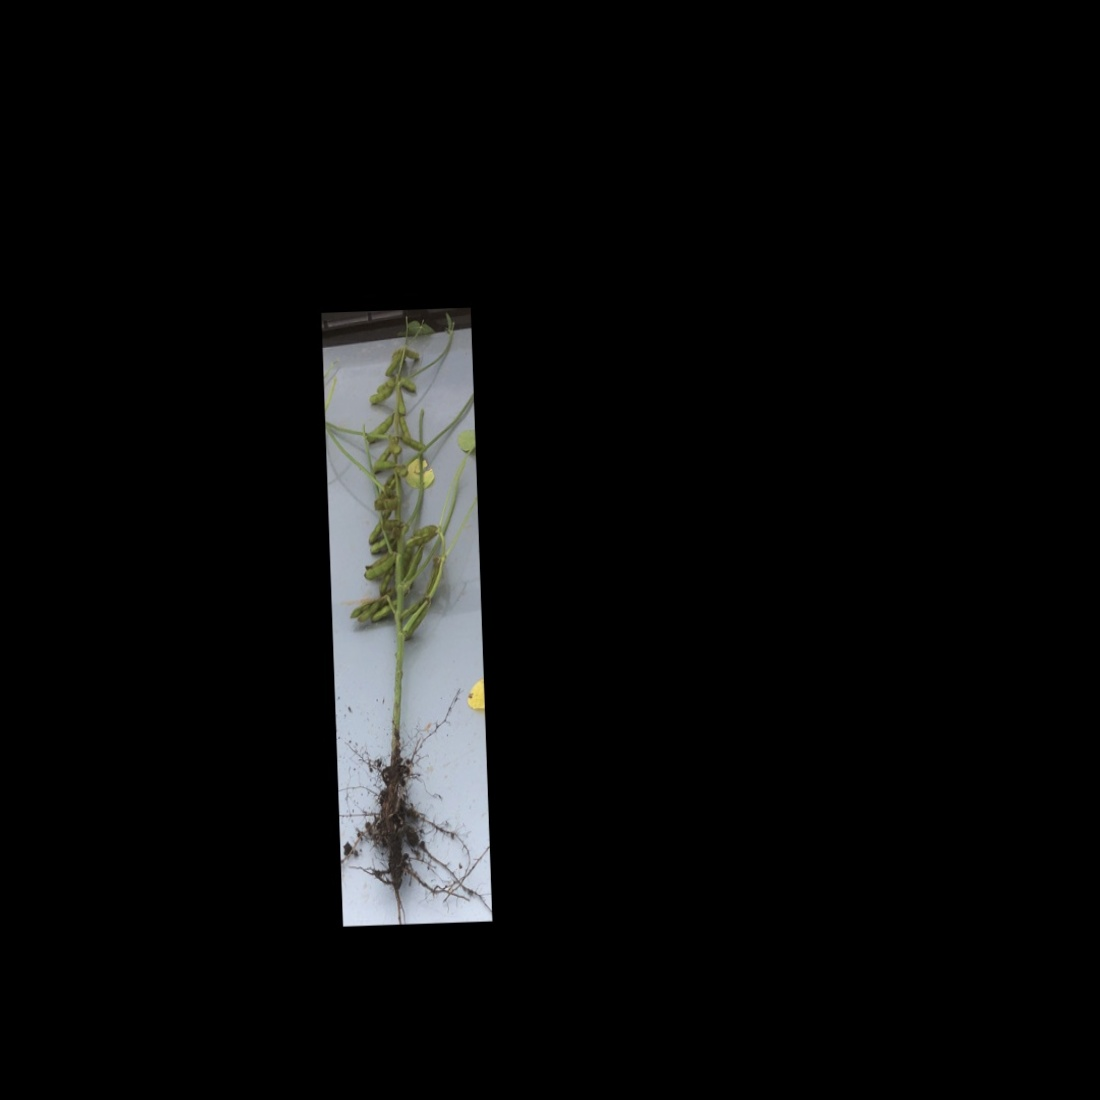pod: (363, 411, 398, 442), (367, 381, 399, 404), (377, 563, 397, 598), (370, 599, 398, 623), (397, 432, 427, 453), (383, 349, 404, 378), (398, 372, 418, 393), (403, 343, 422, 362), (398, 414, 411, 440), (397, 391, 407, 416)
soy: (329, 315, 480, 900)
